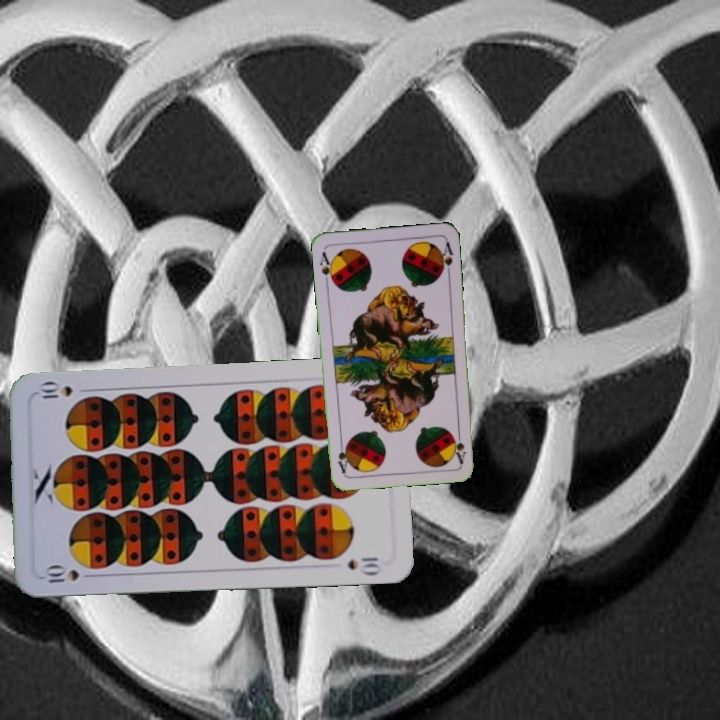S10: (39, 563, 98, 587)
SA: (316, 248, 337, 287), (450, 425, 469, 466)
